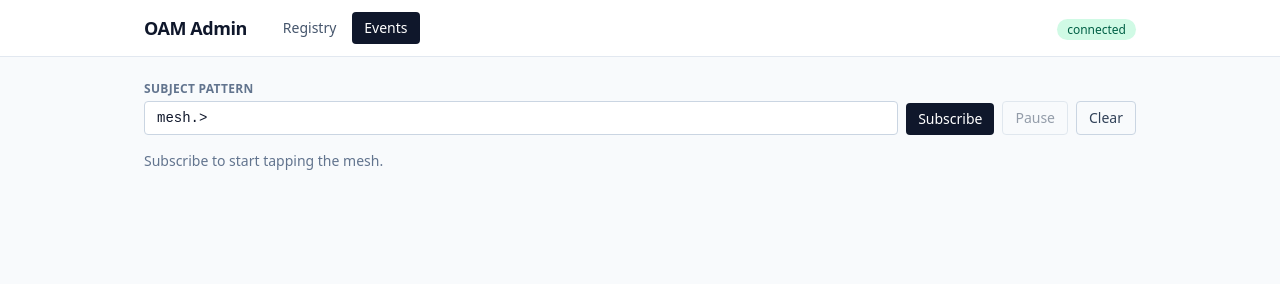
event feed screen › renders tapped events with subject and payload after subscribing
Click the button "Subscribe": (950, 119) x1=906 y1=103 x2=994 y2=135
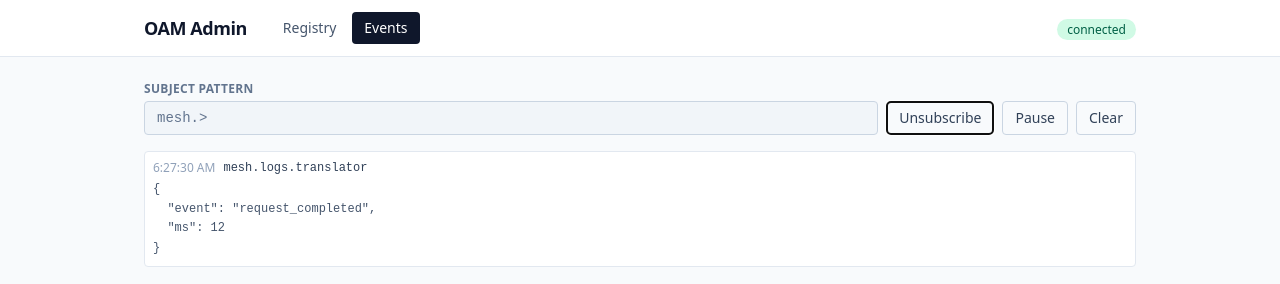
Now the text "mesh.logs.translator" is shown, box x1=223 y1=160 x2=367 y2=176
Now the text "{ \"event\": \"request_completed\", \"ms\": 12 }" is shown, box x1=153 y1=182 x2=376 y2=254
